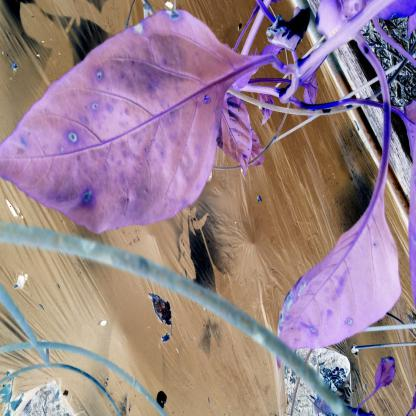bell pepper leaf spot: (0, 8, 247, 235), (272, 187, 402, 384)
